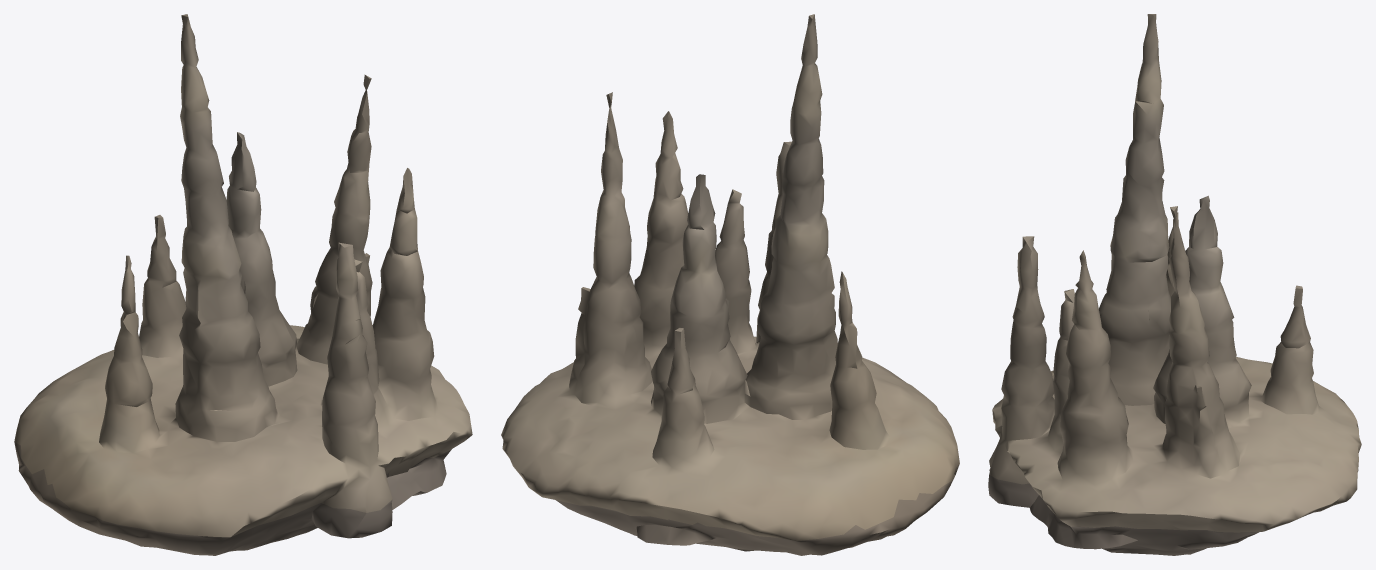
Rendered from stalagmite_cluster_b.530d8d86.glb.
3 renders of one model, left to right at view 1: azimuth 30°, elevation 25°; view 2: azimuth 150°, elevation 25°; view 3: azimuth 270°, elevation 25°, orthographic. The views are drawn at different scales.
Visible parts, largest first — view 1: stalagmite_cluster_b; view 2: stalagmite_cluster_b; view 3: stalagmite_cluster_b.
Boxes of the visible parts, x1,y1,x2,y2 form: stalagmite_cluster_b: (14, 14, 472, 555); stalagmite_cluster_b: (501, 14, 959, 555); stalagmite_cluster_b: (988, 14, 1361, 555).
Bounding box in the file's own units: 1.06 × 1.33 × 0.966.
